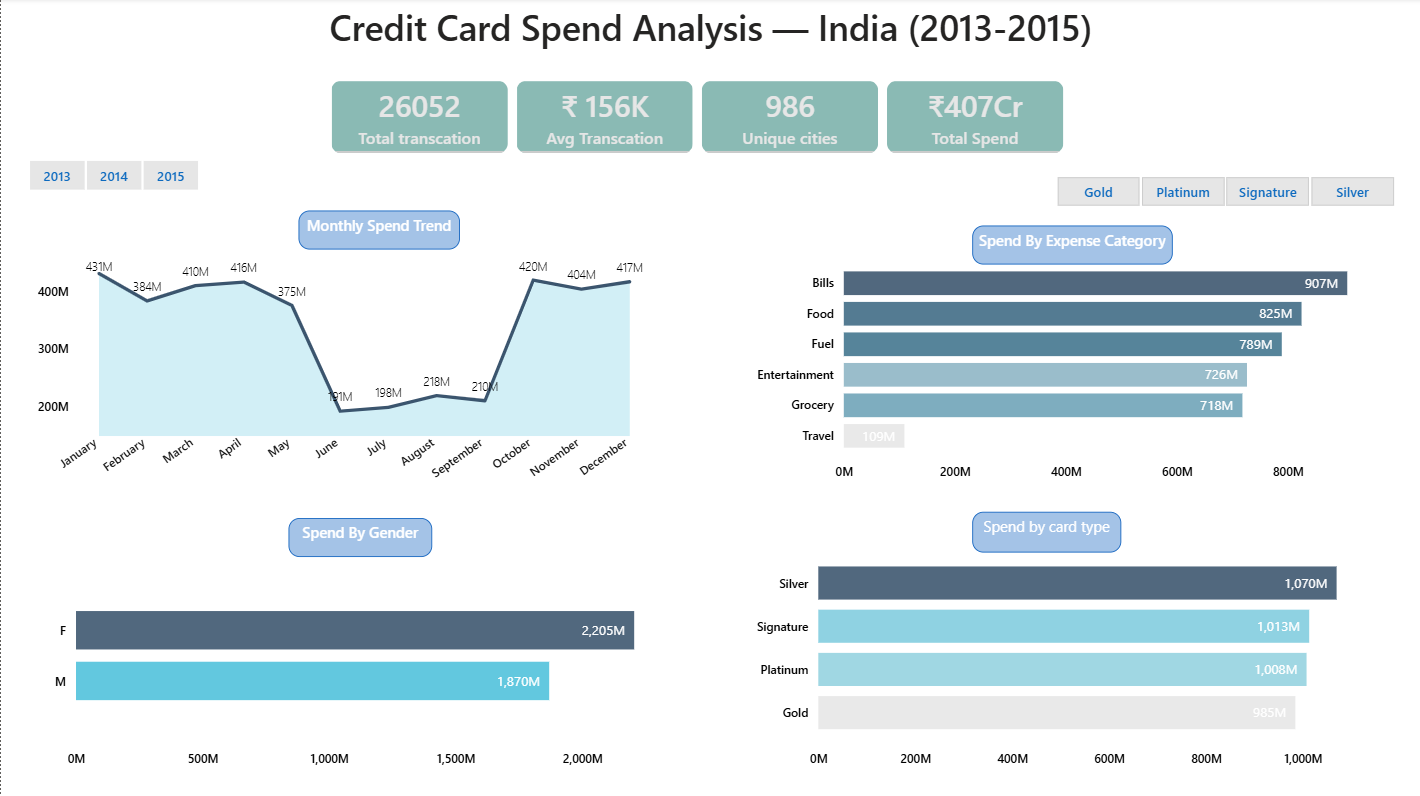

The dashboard page shown, as its layout file describes it:
{"tool":"powerbi","page":{"name":"Spend  Overview","canvas":[1280,720],"ordinal":0},"visuals":[{"type":"textbox","box":[-0.1,0,1280.3,57.6],"z":0},{"type":"cardVisual","fields":{"Data":["clean_creditcard.Total transcations","clean_creditcard.Avg Transcation","clean_creditcard.Unique cities","clean_creditcard.Total Spend"]},"box":[282.5,59.9,690.9,95.4],"z":1000},{"type":"lineChart","fields":{"Category":["clean_creditcard.Date.Variation.Date Hierarchy.Month"],"Y":["Sum(clean_creditcard.Amount)"]},"box":[28.1,226.2,561.3,215.2],"z":2000},{"type":"barChart","fields":{"Y":["Sum(clean_creditcard.Amount)"],"Category":["clean_creditcard.Exp Type"]},"box":[675,223.8,596.7,217.7],"z":3000},{"type":"barChart","fields":{"Category":["clean_creditcard.Gender"],"Y":["Sum(clean_creditcard.Amount)"],"Series":["clean_creditcard.Gender"]},"box":[42.8,500.1,596.7,200.5],"z":4000},{"type":"barChart","fields":{"Y":["Sum(clean_creditcard.Amount)"],"Category":["clean_creditcard.Card Type"]},"box":[675,485.5,596.7,215.2],"z":5000},{"type":"textbox","box":[267.8,192,145.5,35.5],"z":6000},{"type":"textbox","box":[875.5,205.4,181,35.5],"z":7000},{"type":"textbox","box":[259.2,468.3,129.6,35.5],"z":8000},{"type":"textbox","box":[875.5,463.5,134.5,36.7],"z":9000},{"type":"slicer","fields":{"Values":["clean_creditcard.Card Type"]},"box":[926.9,154.1,353.4,37.9],"z":10000},{"type":"slicer","fields":{"Values":["clean_creditcard.Date.Variation.Date Hierarchy.Year"]},"box":[0,139.4,201.8,34.2],"z":11000}]}

Visuals, with their boxes in screenshot pixels (x1, y1, x2, y2), scaled from the page's 1280x720 canvas onto the 1420x796 screenshot:
textbox: <box>0,0,1419,64</box>
cardVisual - clean_creditcard.Total transcations x clean_creditcard.Avg Transcation: <box>313,66,1080,172</box>
lineChart - clean_creditcard.Date.Variation.Date Hierarchy.Month x Sum(clean_creditcard.Amount): <box>31,250,654,488</box>
barChart - Sum(clean_creditcard.Amount) x clean_creditcard.Exp Type: <box>749,247,1411,488</box>
barChart - clean_creditcard.Gender x Sum(clean_creditcard.Amount): <box>47,553,709,775</box>
barChart - Sum(clean_creditcard.Amount) x clean_creditcard.Card Type: <box>749,537,1411,775</box>
textbox: <box>297,212,459,252</box>
textbox: <box>971,227,1172,266</box>
textbox: <box>288,518,431,557</box>
textbox: <box>971,512,1120,553</box>
slicer - clean_creditcard.Card Type: <box>1028,170,1419,212</box>
slicer - clean_creditcard.Date.Variation.Date Hierarchy.Year: <box>0,154,224,192</box>
